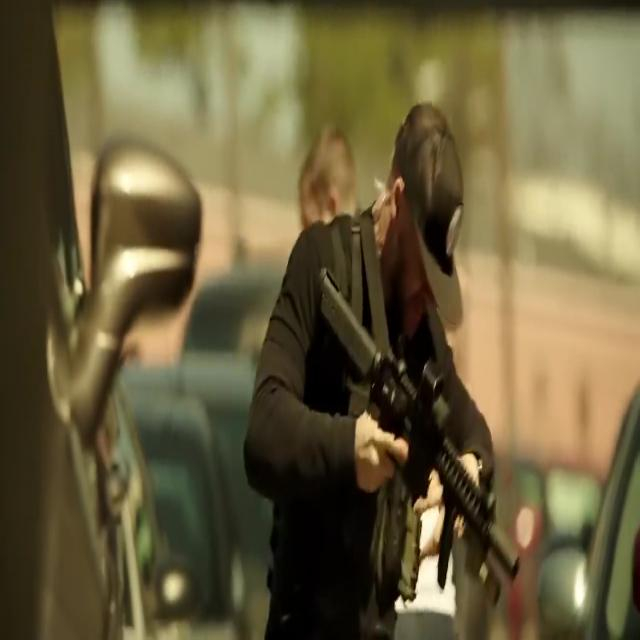Weapon: (319, 260, 522, 606)
